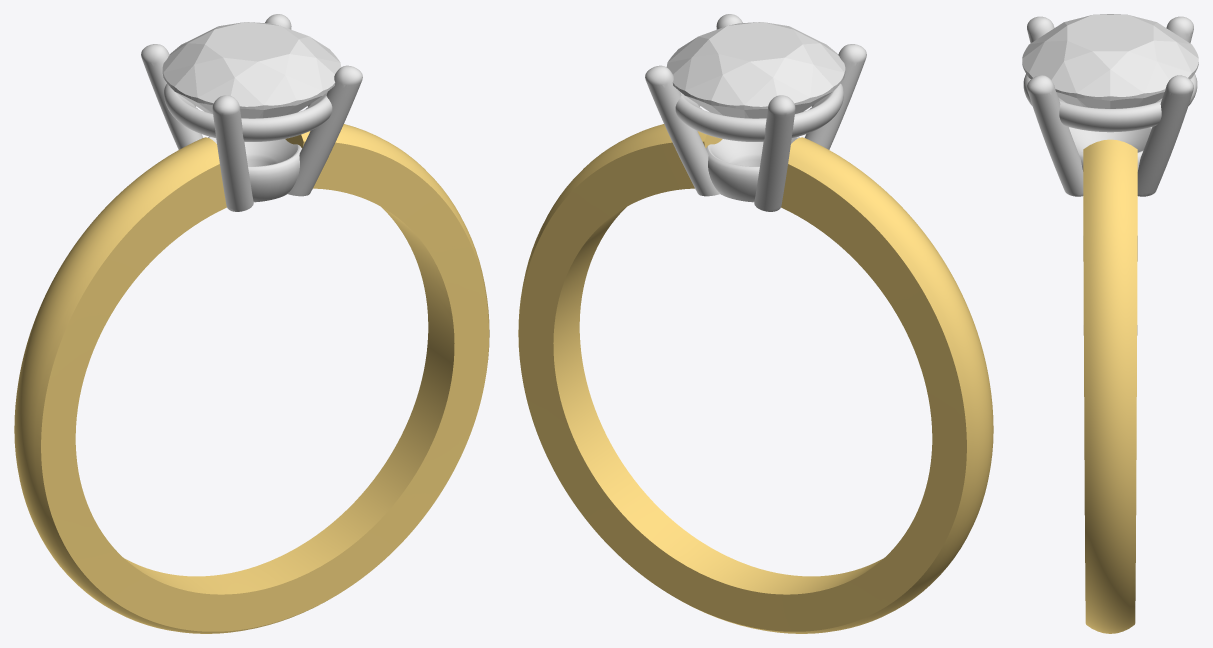
The model's file is PaulaV2solitaire_blender.glb.
3 renders of one model, left to right at view 1: azimuth 30°, elevation 25°; view 2: azimuth 150°, elevation 25°; view 3: azimuth 270°, elevation 25°, orthographic.
Visible parts, largest first — view 1: Paula YG for 3d model, v2 1 ct Paula PT for 3d model, v2 1 ct Paula dia for 3d model; view 2: Paula YG for 3d model, v2 1 ct Paula PT for 3d model, v2 1 ct Paula dia for 3d model; view 3: Paula YG for 3d model, v2 1 ct Paula dia for 3d model, v2 1 ct Paula PT for 3d model.
Part boxes in pixels (<box>): Paula YG for 3d model: <box>14,124,489,633</box>; v2 1 ct Paula PT for 3d model: <box>141,14,362,211</box>; v2 1 ct Paula dia for 3d model: <box>162,22,341,118</box>; Paula YG for 3d model: <box>518,124,993,633</box>; v2 1 ct Paula PT for 3d model: <box>645,14,866,211</box>; v2 1 ct Paula dia for 3d model: <box>666,22,845,118</box>; Paula YG for 3d model: <box>1083,139,1137,633</box>; v2 1 ct Paula dia for 3d model: <box>1022,14,1198,108</box>; v2 1 ct Paula PT for 3d model: <box>1023,16,1197,196</box>.
Size of the model in its own units: 19.5 by 23.39 by 6.5.
